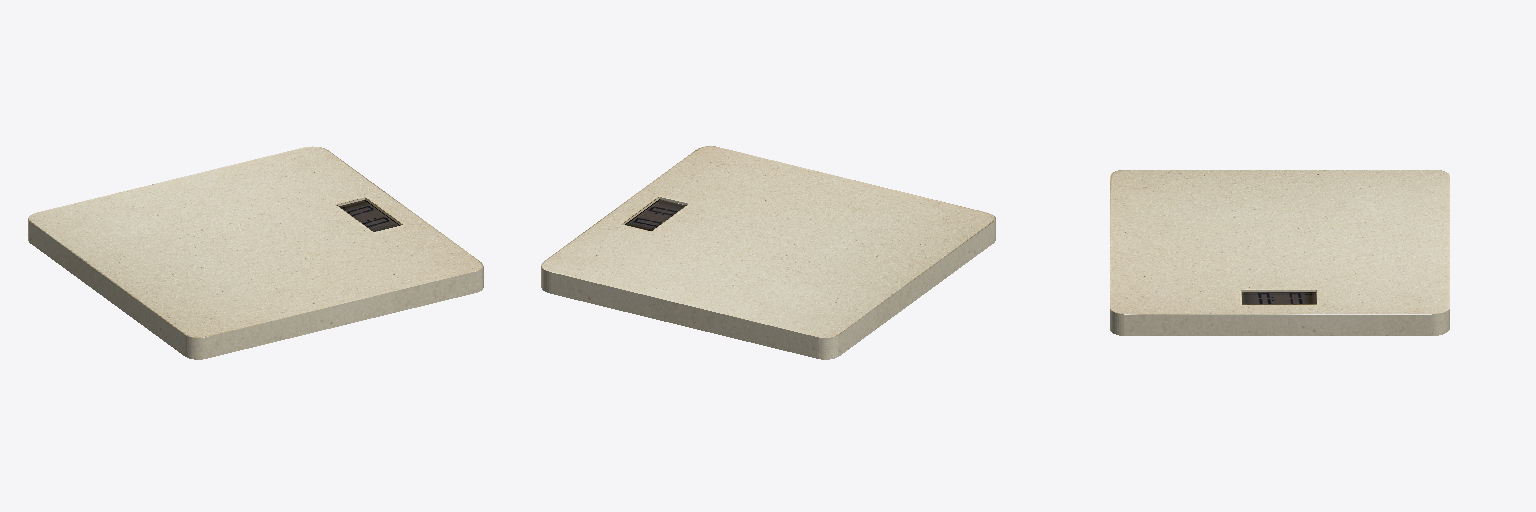
3 renders of one model, left to right at view 1: azimuth 30°, elevation 25°; view 2: azimuth 150°, elevation 25°; view 3: azimuth 270°, elevation 25°, orthographic.
Visible parts, largest first — view 1: Mesh1_Group1_Model.006; view 2: Mesh1_Group1_Model.006; view 3: Mesh1_Group1_Model.006.
Part boxes in pixels (x1,y1,x2,y2): Mesh1_Group1_Model.006: (28, 146, 483, 359); Mesh1_Group1_Model.006: (541, 146, 995, 359); Mesh1_Group1_Model.006: (1110, 170, 1449, 335).
Bounding box in the file's own units: 1.03 × 0.0923 × 1.02.
3 materials, 2 textured.